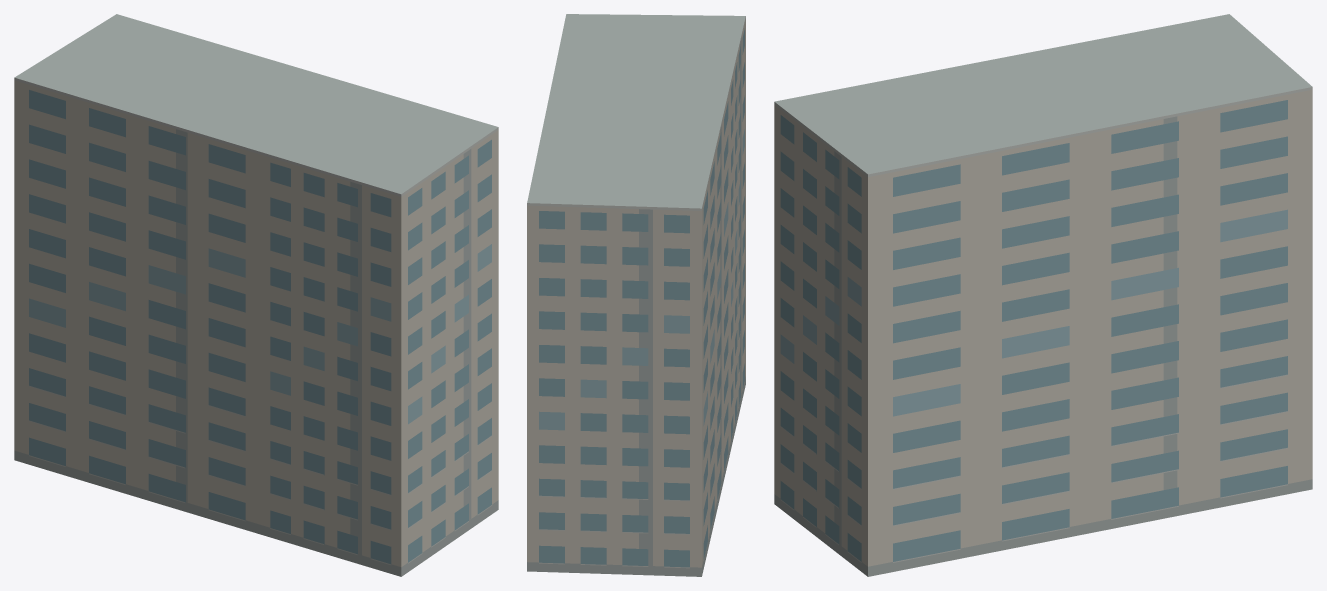
The model's file is residential-0cdc3c24-d48e-4c6f-85a7-47ea04a972a1.glb.
The picture shows the model from 3 angles, left to right: view 1: azimuth 30°, elevation 25°; view 2: azimuth 150°, elevation 25°; view 3: azimuth 270°, elevation 25°; orthographic projection. The views are drawn at different scales.
Parts seen in each view (by area): view 1: residential-0cdc3c24-d48e-4c6f-85a7-47ea04a972a1.tmp; view 2: residential-0cdc3c24-d48e-4c6f-85a7-47ea04a972a1.tmp; view 3: residential-0cdc3c24-d48e-4c6f-85a7-47ea04a972a1.tmp.
Part boxes in pixels (x1,y1,x2,y2): residential-0cdc3c24-d48e-4c6f-85a7-47ea04a972a1.tmp: [14, 14, 498, 576]; residential-0cdc3c24-d48e-4c6f-85a7-47ea04a972a1.tmp: [527, 14, 745, 576]; residential-0cdc3c24-d48e-4c6f-85a7-47ea04a972a1.tmp: [774, 14, 1312, 576].
Bounding box in the file's own units: 29.93 × 35 × 42.45.
